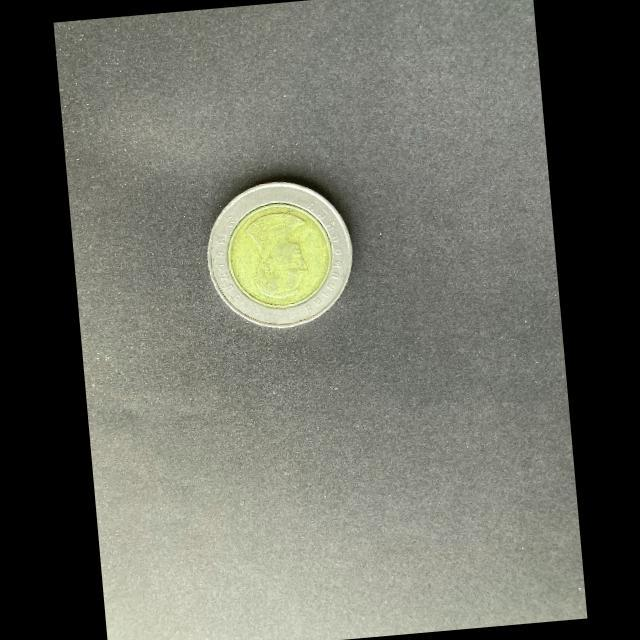10 Bath: (207, 179, 357, 334)
